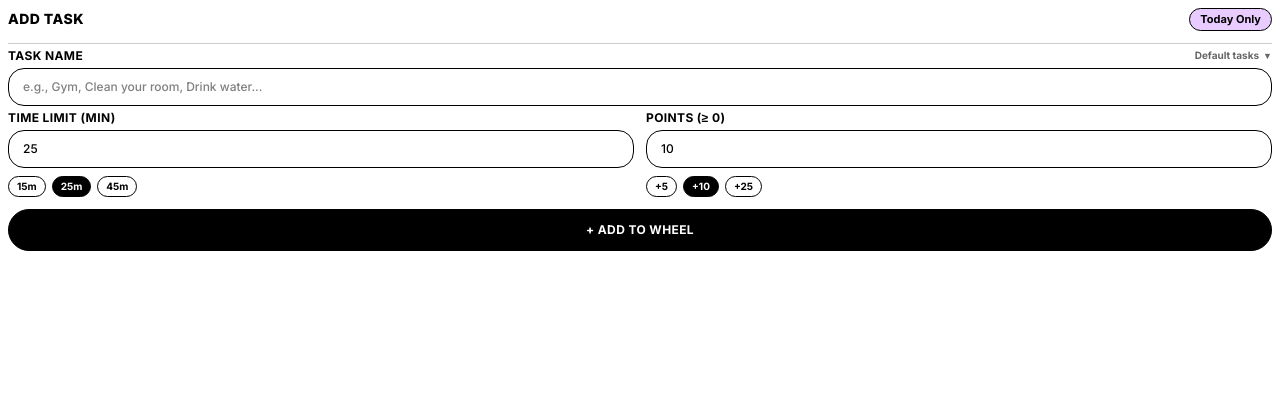
Test: components/TaskForm (spec) › shows dropdown with default task options on focus and allows selecting a task
The image size is (1280, 398).
Focus the field labelled "Task Name": coordinates (640, 86) [8,68,1272,106]
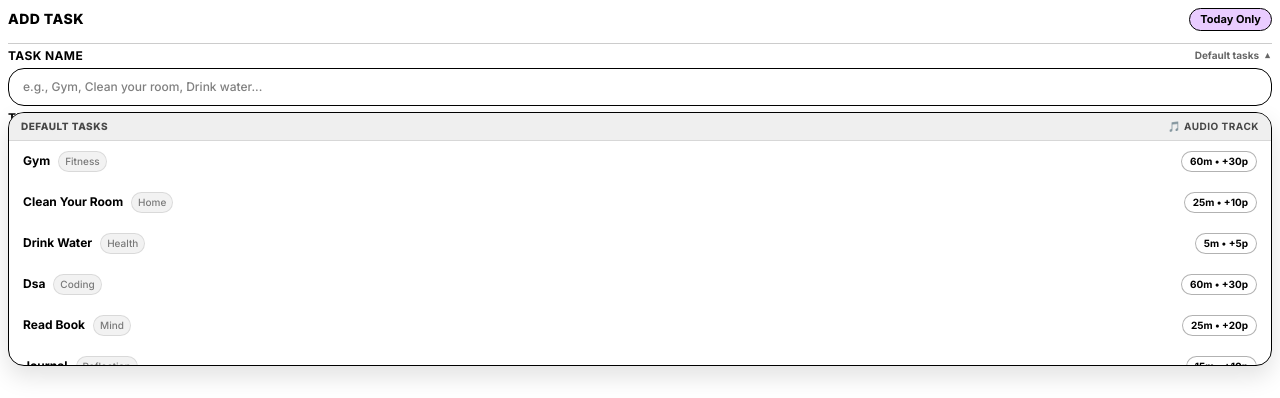
Expected: the list "Default Tasks" is shown
Expected: the option "gym Fitness 60m • +30p" is shown
Expected: the option "clean your room Home 25m • +10p" is shown, [9,182,1271,222]
// Click "gym" option
Click the option "gym Fitness 60m • +30p": coordinates (82, 161) [9,140,1271,182]
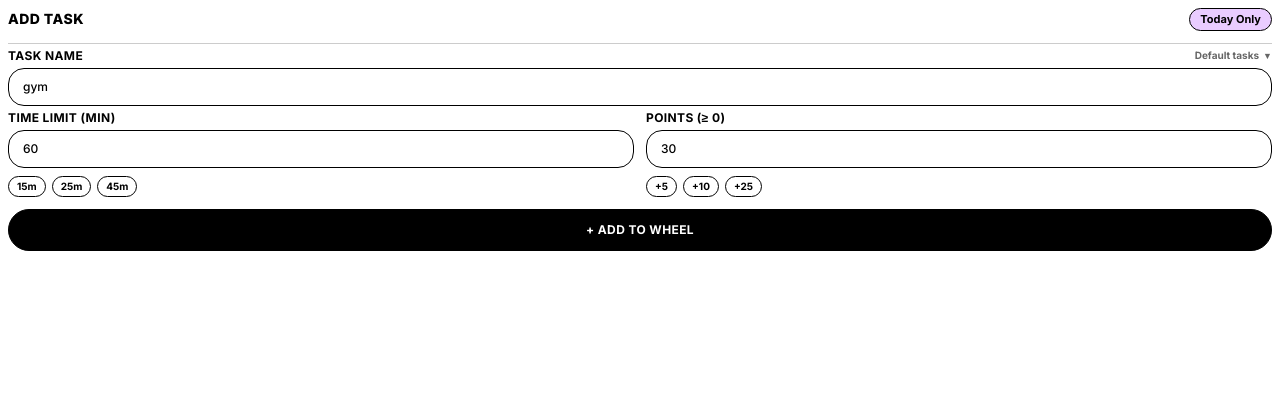
Expected: the field labelled "Task Name" holds "gym", [8,68,1272,106]
Expected: the number field labelled "Time Limit (Min)" holds "60", [8,130,634,168]
Expected: the number field labelled "Points (≥ 0)" holds "30", [646,130,1272,168]
